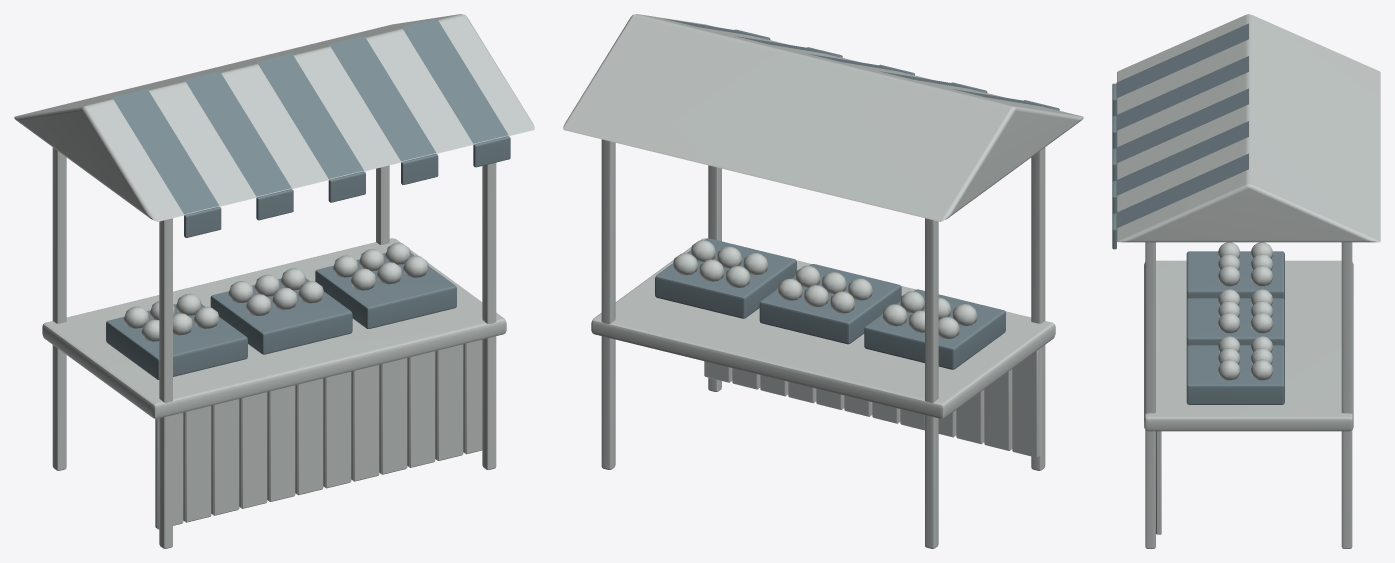
Rendered from market-stall.glb.
The picture shows the model from 3 angles, left to right: view 1: azimuth 30°, elevation 25°; view 2: azimuth 150°, elevation 25°; view 3: azimuth 270°, elevation 25°; orthographic projection. The views are drawn at different scales.
Visible parts, largest first — view 1: pitched_canopy, counter, produce_crate.001, produce_crate.002, produce_crate, canopy_stripe.001, canopy_stripe.002, canopy_stripe.004, canopy_stripe, canopy_stripe.003, post.001, post (+19 smaller); view 2: pitched_canopy, counter, produce_crate.001, produce_crate.002, post.002, produce_crate, post, post.001, front_panel0, front_panel1, front_panel2, post.003; view 3: pitched_canopy, counter, produce_crate.002, post.002, post.003, produce_crate, produce_crate.001, canopy_stripe.004, canopy_stripe, canopy_stripe.001, canopy_stripe.003, canopy_stripe.002 (+7 smaller).
Part boxes in pixels (box(x1,y1,x2,y2)): pitched_canopy: box(14, 14, 534, 221); counter: box(42, 238, 506, 418); produce_crate.001: box(210, 278, 352, 354); produce_crate.002: box(315, 253, 456, 328); produce_crate: box(106, 304, 247, 379); canopy_stripe.001: box(185, 71, 291, 196); canopy_stripe.002: box(257, 53, 363, 178); canopy_stripe.004: box(401, 18, 508, 143); canopy_stripe: box(112, 88, 219, 214); canopy_stripe.003: box(329, 36, 436, 161); post.001: box(159, 218, 172, 548); post: box(52, 147, 66, 470); pitched_canopy: box(563, 14, 1083, 221); counter: box(591, 238, 1055, 418); produce_crate.001: box(759, 264, 901, 344); produce_crate.002: box(655, 238, 796, 318); post.002: box(601, 139, 615, 469); produce_crate: box(864, 289, 1005, 369); post: box(925, 218, 938, 548); post.001: box(1031, 147, 1045, 470); front_panel0: box(1012, 348, 1040, 457); front_panel1: box(984, 369, 1012, 450); front_panel2: box(956, 389, 984, 444); post.003: box(708, 165, 721, 391); pitched_canopy: box(1117, 14, 1380, 242); counter: box(1144, 260, 1353, 431); produce_crate.002: box(1186, 345, 1284, 404); post.002: box(1341, 242, 1352, 548); post.003: box(1145, 242, 1155, 548); produce_crate: box(1186, 251, 1284, 300); produce_crate.001: box(1186, 298, 1284, 347); canopy_stripe.004: box(1116, 153, 1248, 228); canopy_stripe: box(1116, 23, 1248, 98); canopy_stripe.001: box(1116, 56, 1248, 130); canopy_stripe.003: box(1116, 121, 1248, 195); canopy_stripe.002: box(1116, 88, 1248, 163).
Size of the model in its own units: 2.5 by 2.55 by 1.64.
